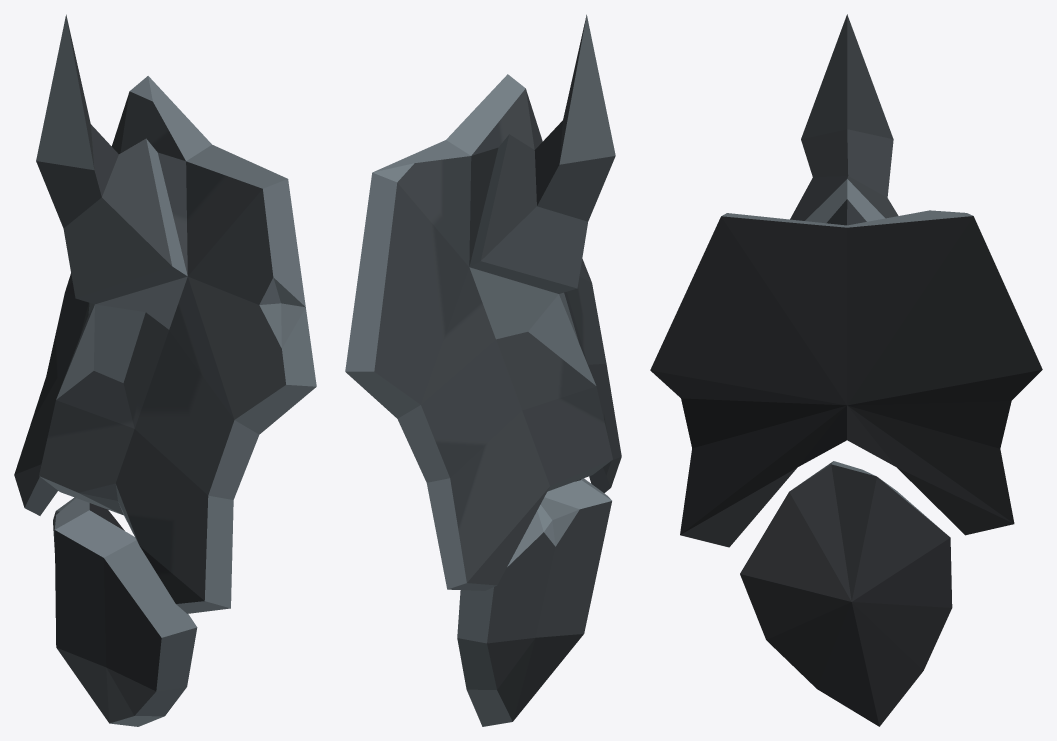
The model's file is SM_Chr_Attach_Armour_Dark_Leg_RR_Small_01.fbx.
3 views of the same model, side by side, from view 1: azimuth 30°, elevation 25°; view 2: azimuth 150°, elevation 25°; view 3: azimuth 270°, elevation 25° (orthographic). The views are drawn at different scales.
Parts seen in each view (by area): view 1: SM_Chr_Attach_Armour_Dark_Leg_RR_Small_01; view 2: SM_Chr_Attach_Armour_Dark_Leg_RR_Small_01; view 3: SM_Chr_Attach_Armour_Dark_Leg_RR_Small_01.
Part boxes in pixels (x1,y1,x2,y2): SM_Chr_Attach_Armour_Dark_Leg_RR_Small_01: (14,14,316,726); SM_Chr_Attach_Armour_Dark_Leg_RR_Small_01: (345,14,621,726); SM_Chr_Attach_Armour_Dark_Leg_RR_Small_01: (650,14,1042,726).
Size of the model in its own units: 9.72 by 38.1 by 20.14.
